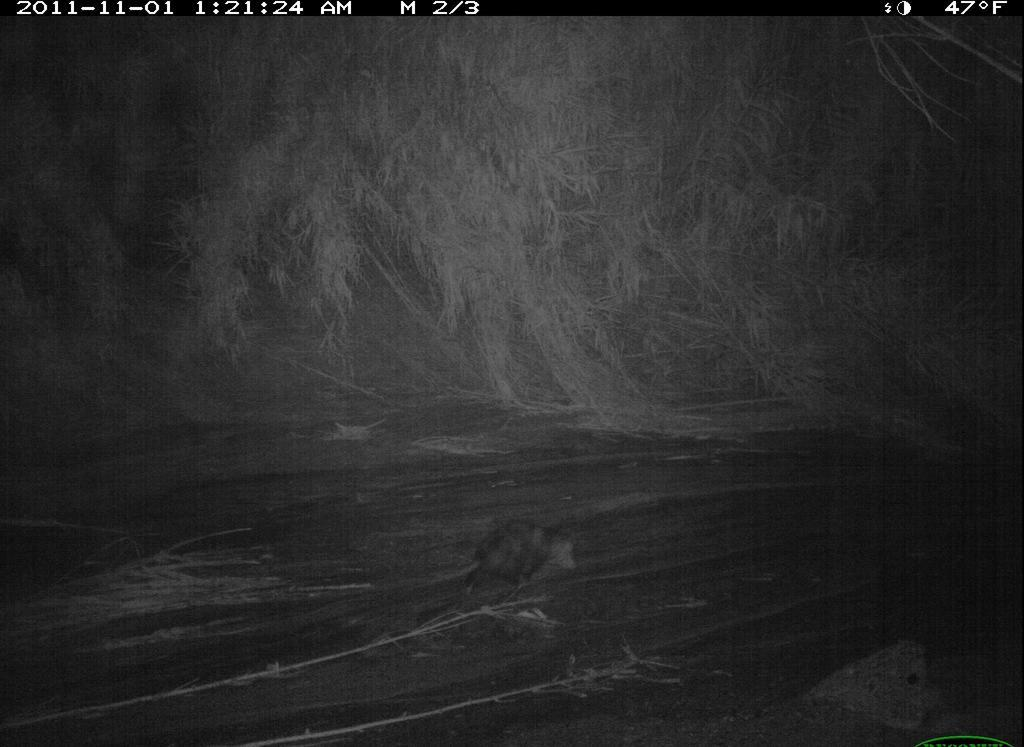opossum: (419, 515, 584, 597)
